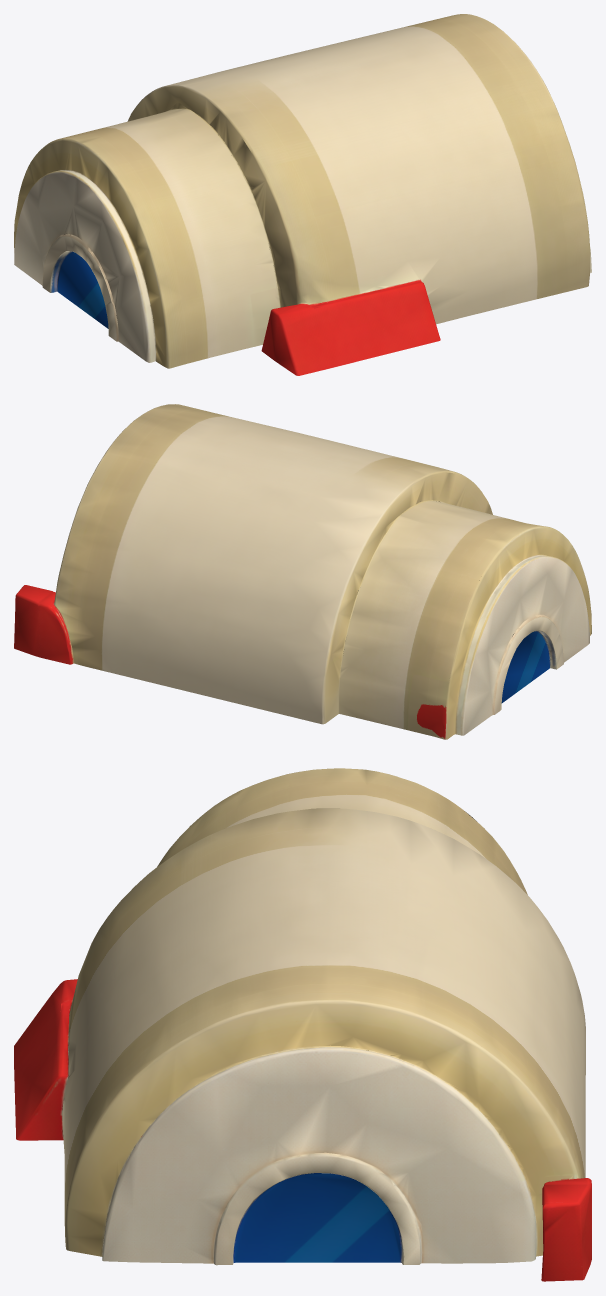
The model's file is 8-topper.fbx.
3 views of the same model, one above another, from view 1: azimuth 30°, elevation 25°; view 2: azimuth 150°, elevation 25°; view 3: azimuth 270°, elevation 25° (orthographic). The views are drawn at different scales.
Parts seen in each view (by area): view 1: topper; view 2: topper; view 3: topper.
Part boxes in pixels (x1,y1,x2,y2): topper: [14, 14, 591, 375]; topper: [14, 404, 591, 739]; topper: [14, 768, 591, 1281].
Size of the model in its own units: 7997 by 3110 by 6412.
Materials: 1 (1 with a texture image).
